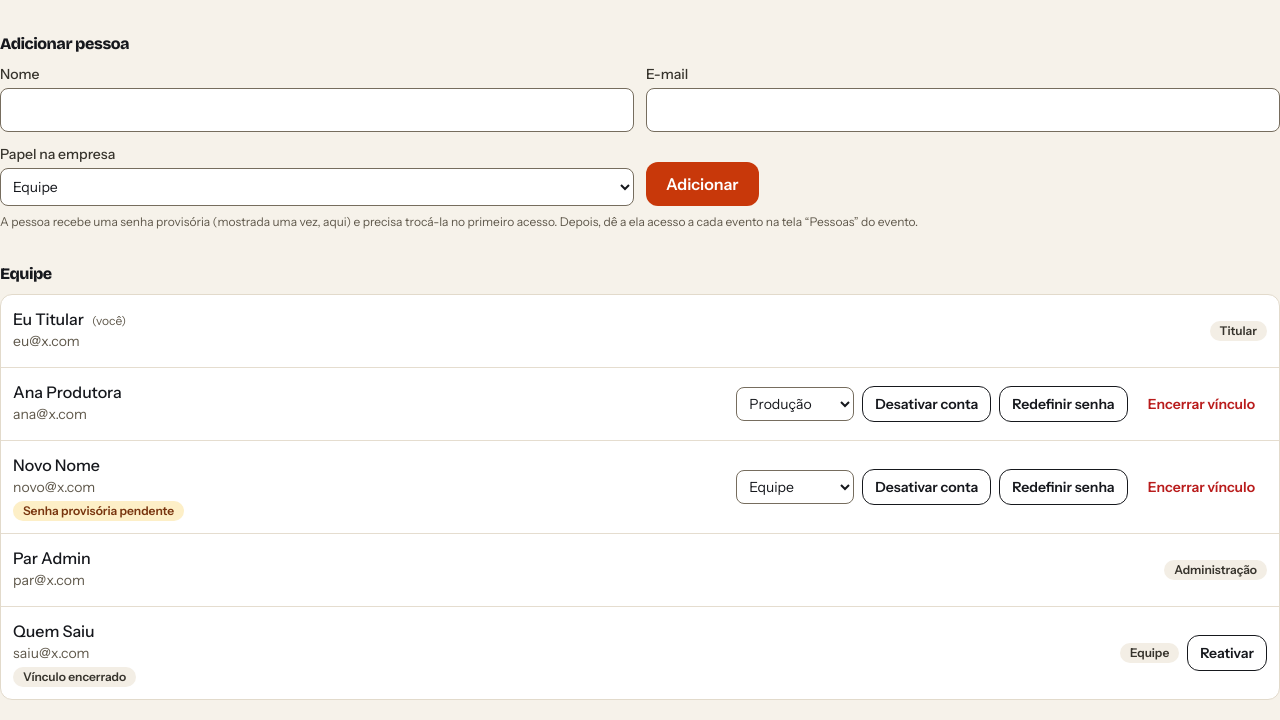
Scenario: TeamManager › adicionar pessoa › nome e e-mail inválidos são apontados nos campos, sem ir ao servidor
The width and height of the screenshot is (1280, 720).
Type "isso-nao-e-email" into the field labelled "E-mail".
click(963, 110); type("isso-nao-e-email")  # box [646,88,1279,132]
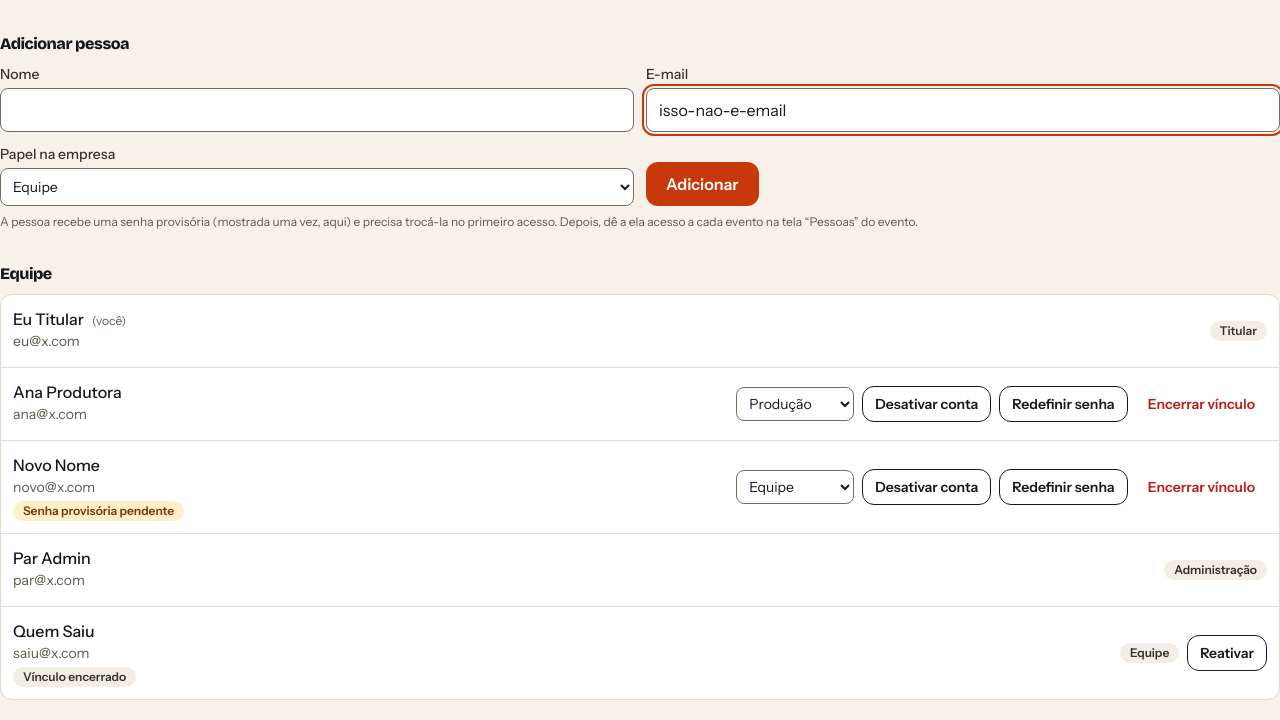
Click the button "Adicionar".
click(702, 184)  # box [646,162,759,206]
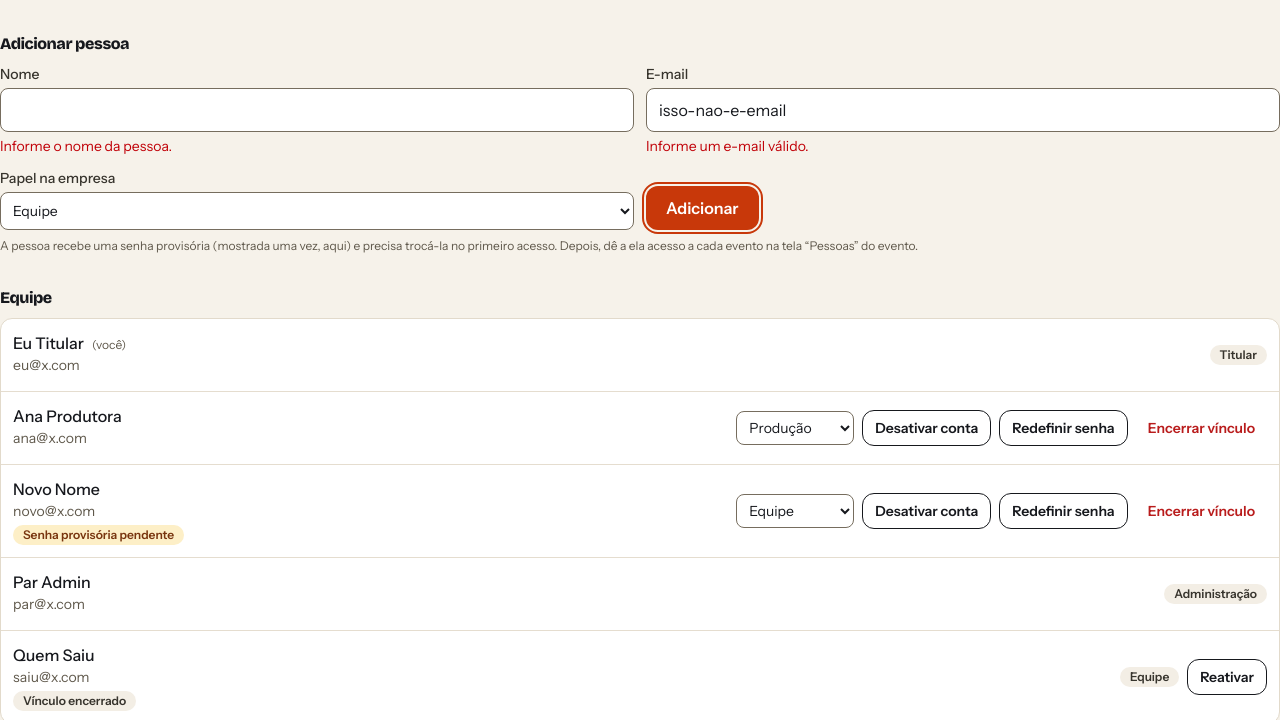
Expected: the text "Informe o nome da pessoa." is shown, [0,137,172,155]
Expected: the text "Informe um e-mail válido." is shown, [646,137,809,155]
